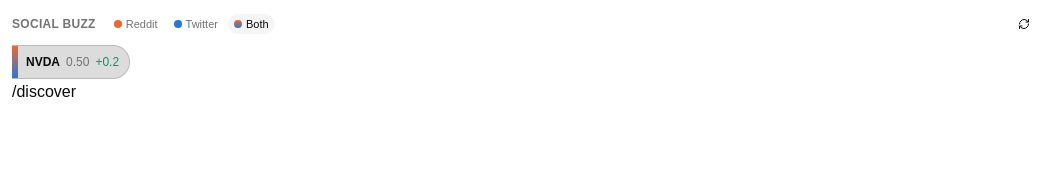
Test: a ticker stronger on Twitter opens the stock page Social tab on that platform
Click the button "NVDA 0.50 +0.2".
click(71, 62)  # box [12,46,129,78]
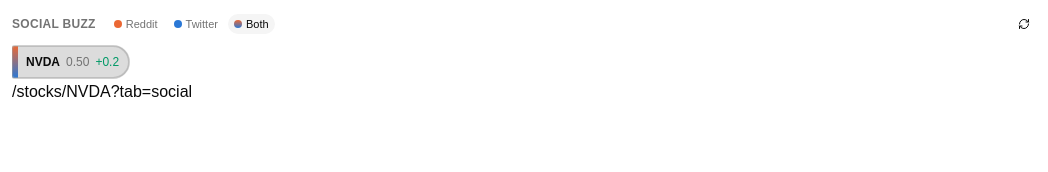
Result: the text named "Current location" reads "/stocks/NVDA?tab=social" at [12,83,192,100]
